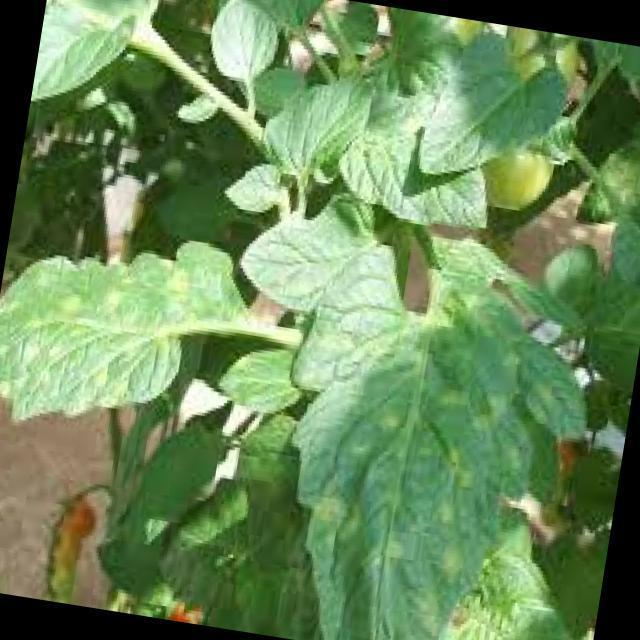Mosaic Virus: (298, 297, 560, 640), (0, 228, 200, 416)
